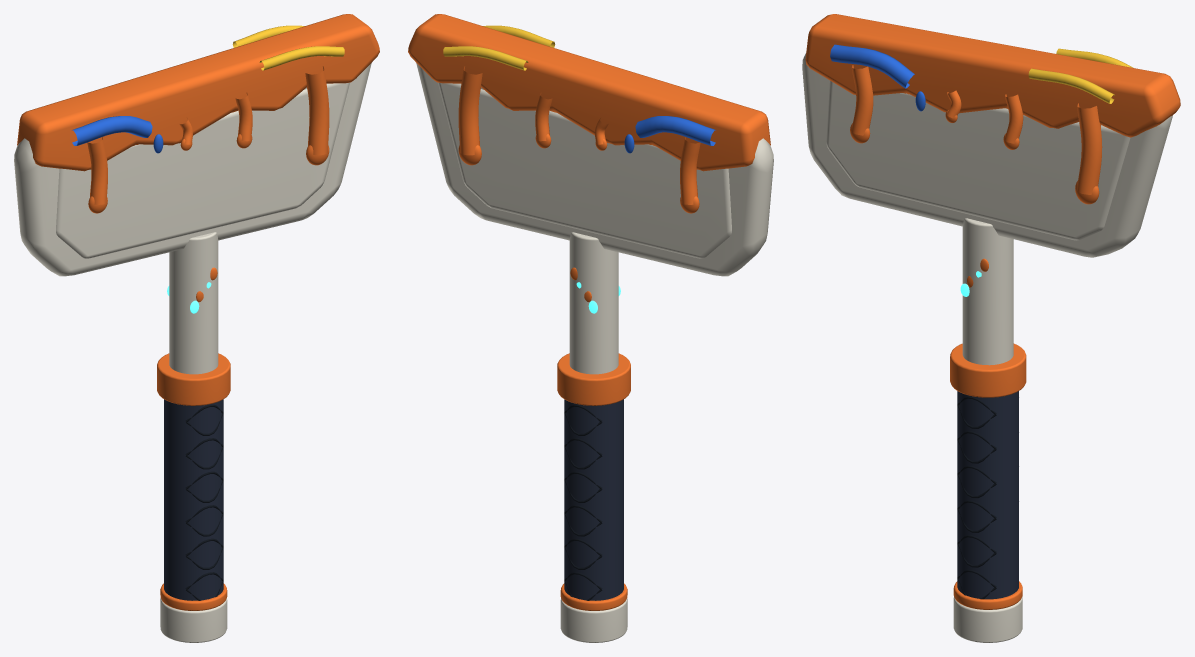
File: knife.glb
3 views of the same model, side by side, from view 1: azimuth 30°, elevation 25°; view 2: azimuth 150°, elevation 25°; view 3: azimuth 330°, elevation 25° (orthographic). The views are drawn at different scales.
Parts seen in each view (by area): view 1: Shell; view 2: Shell; view 3: Shell.
Part boxes in pixels (bbox=[...]): Shell: bbox=[14, 14, 379, 642]; Shell: bbox=[408, 14, 773, 642]; Shell: bbox=[802, 14, 1180, 642].
Bounding box in the file's own units: 0.2316 × 0.3647 × 0.044.
